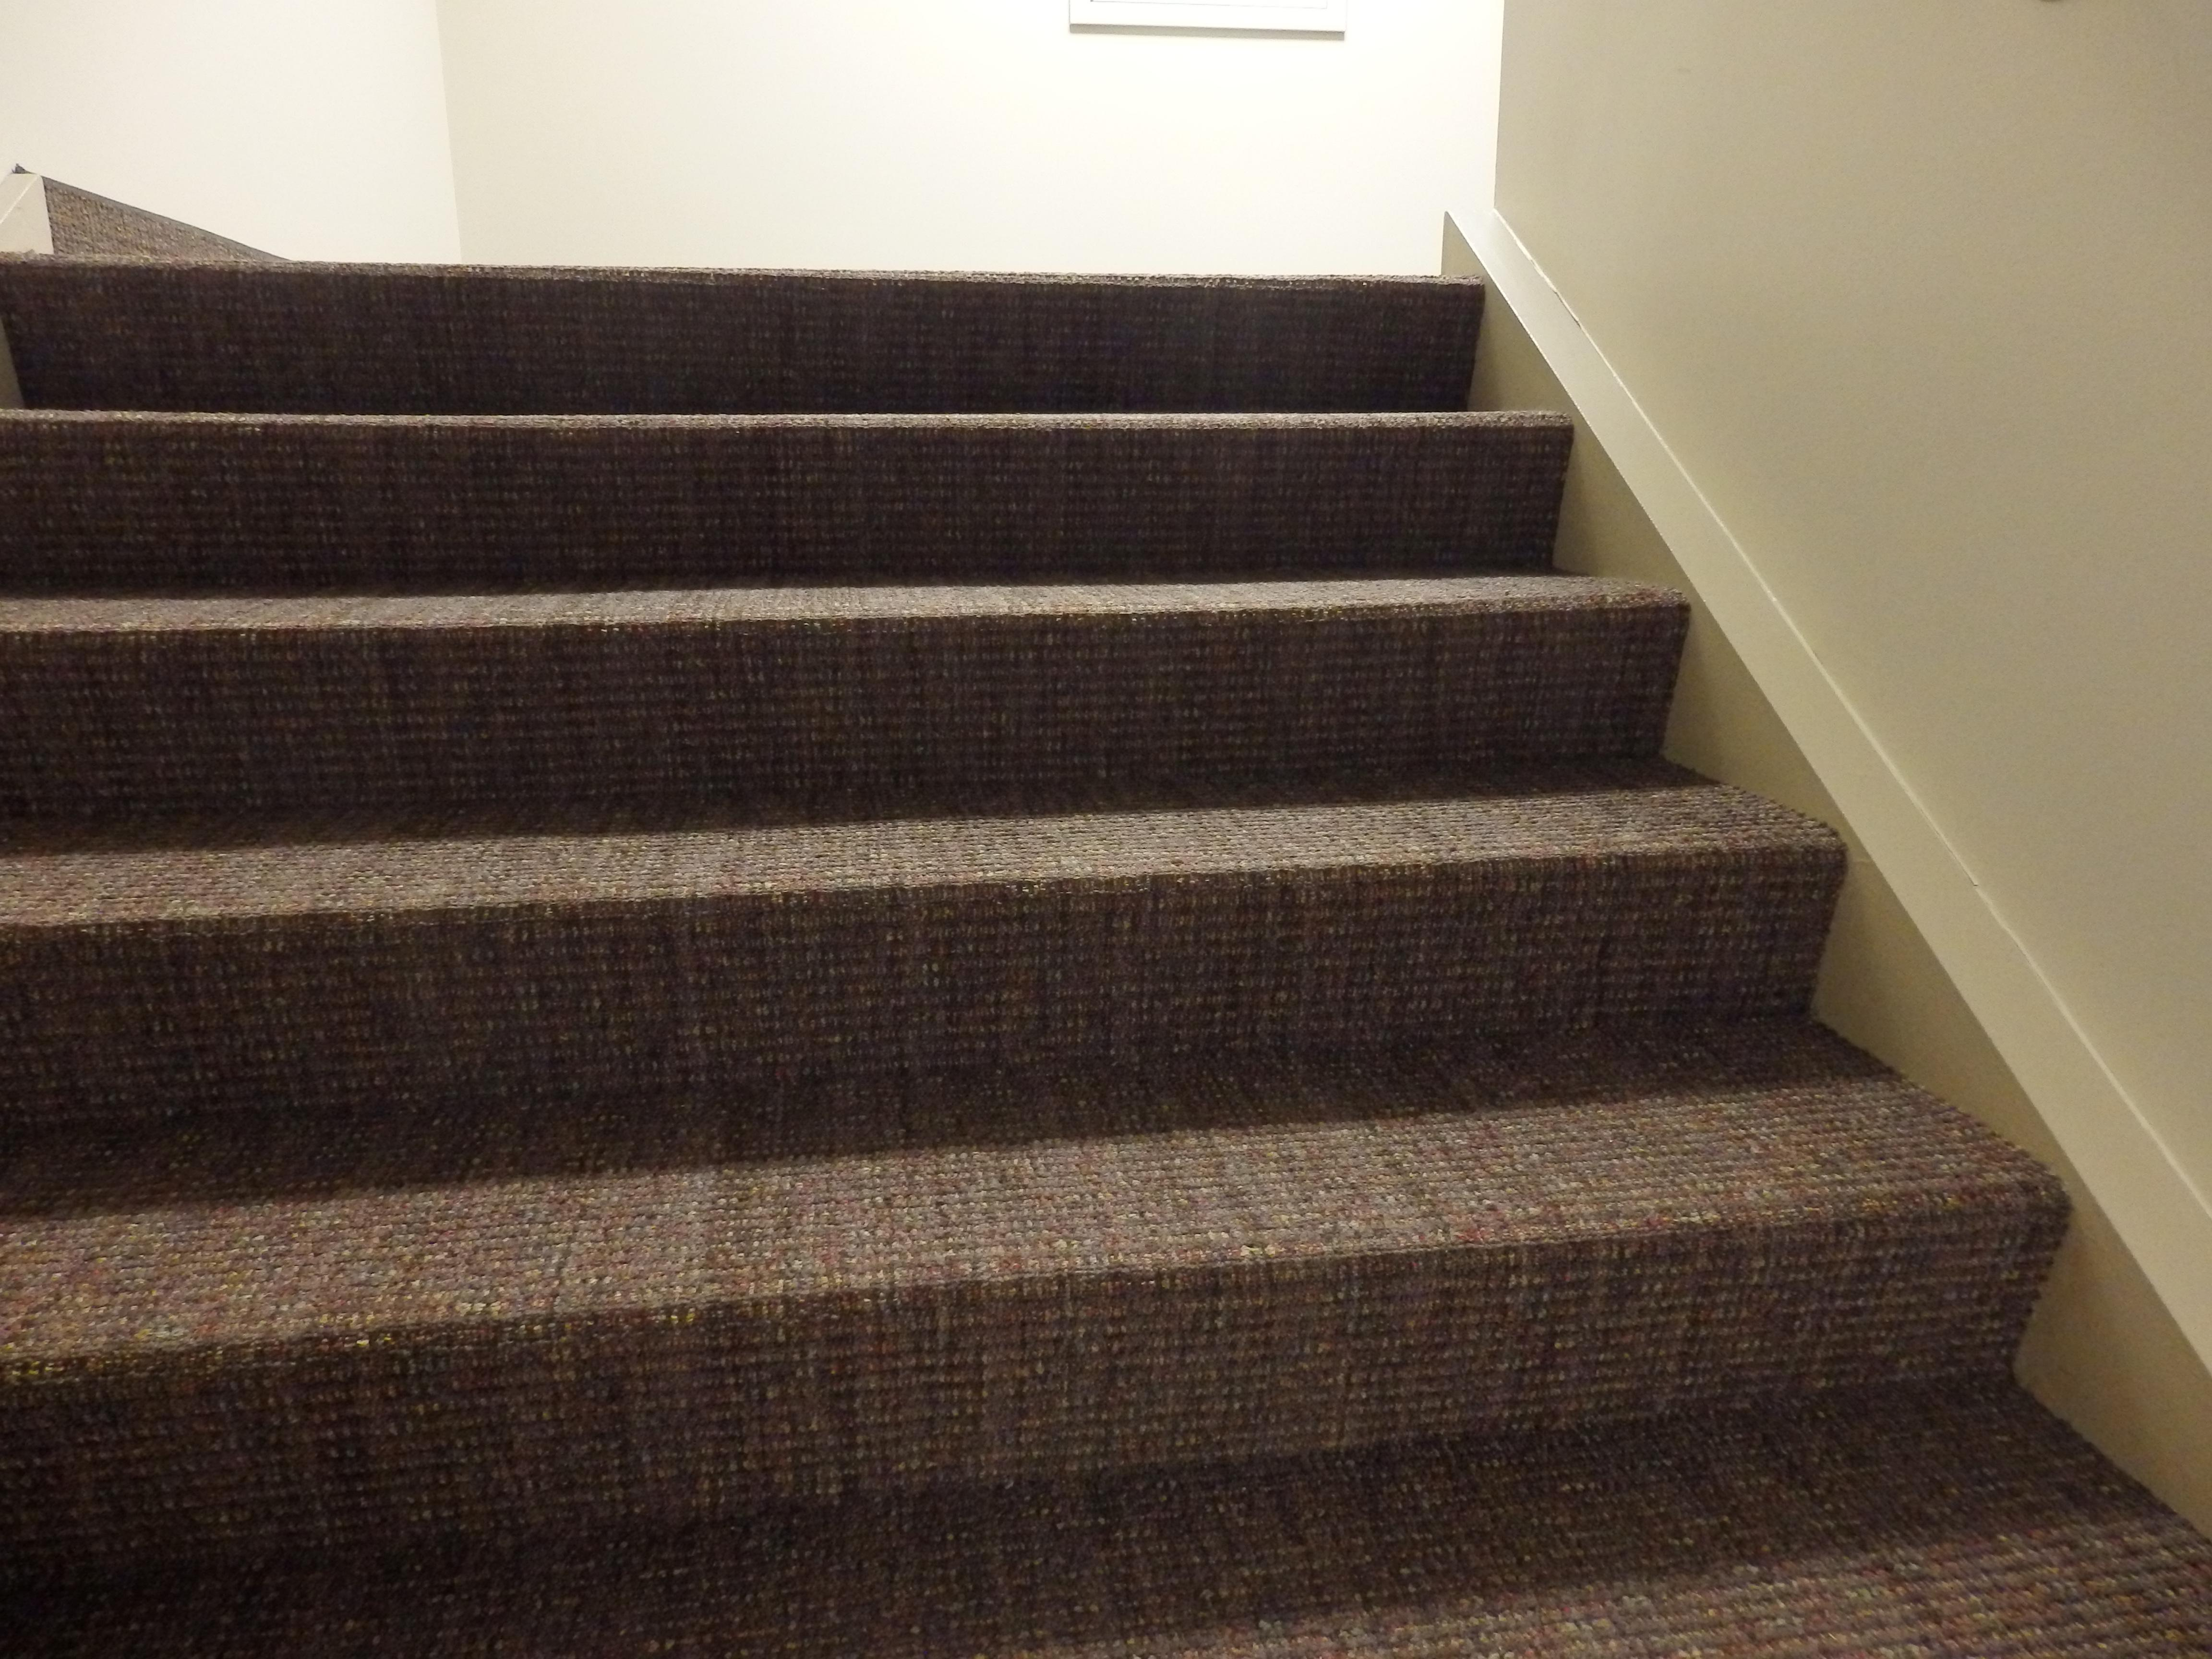stairs_up: (23, 230, 2038, 1636)
